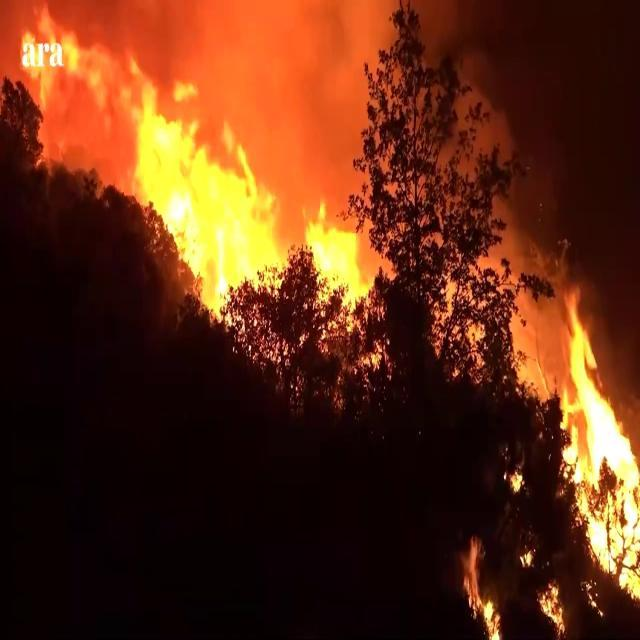Fire: (134, 61, 264, 323), (549, 297, 640, 615), (301, 200, 379, 360), (458, 530, 503, 636), (536, 578, 568, 634)
Smoke: (2, 0, 390, 296)
